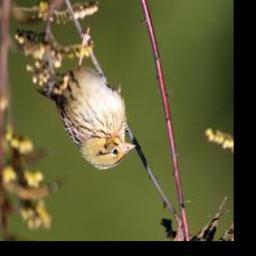Sparrow: (34, 27, 138, 172)
